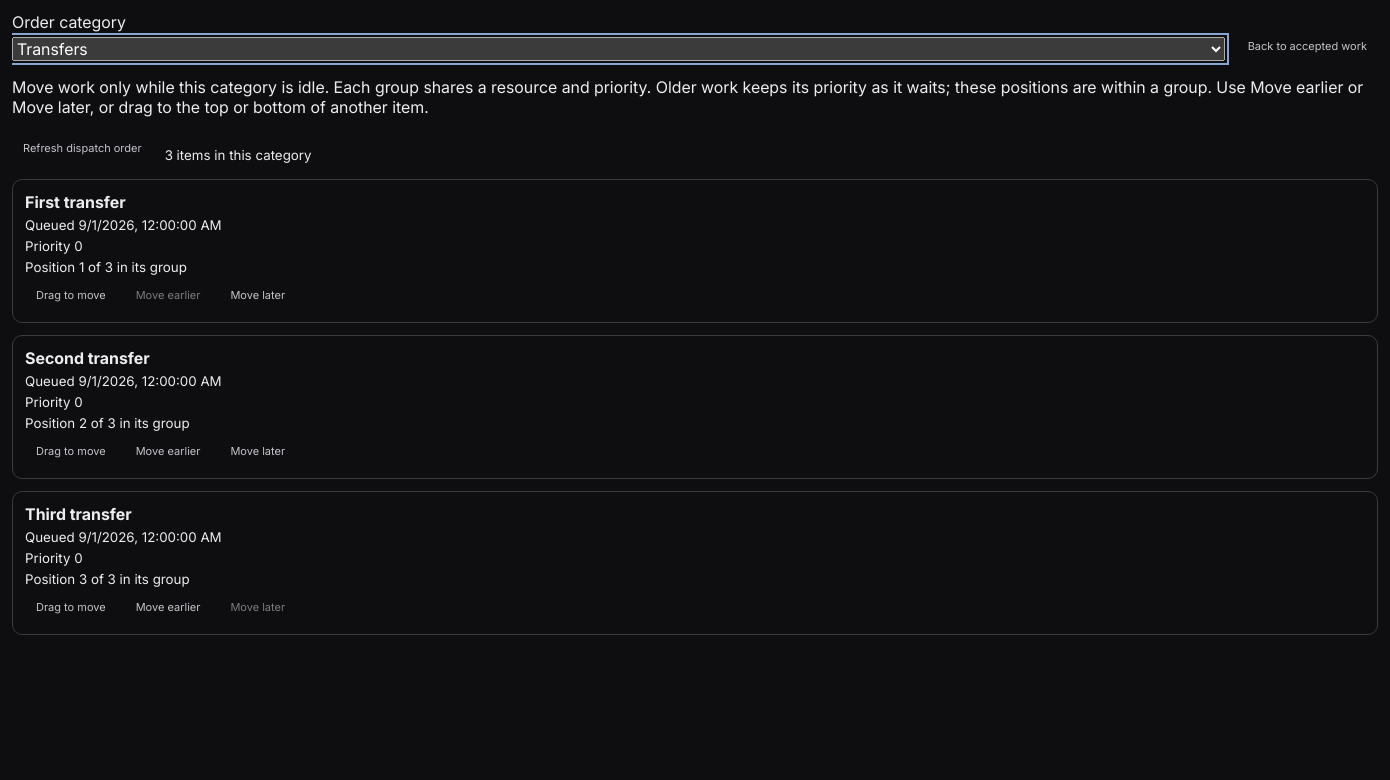
Test: keeps focus after retrying unchanged queue data (focus moved: false)
Click the button "Move earlier" below "Third transfer" at (168, 607), box [125, 592, 211, 622]
Wait 50 ms
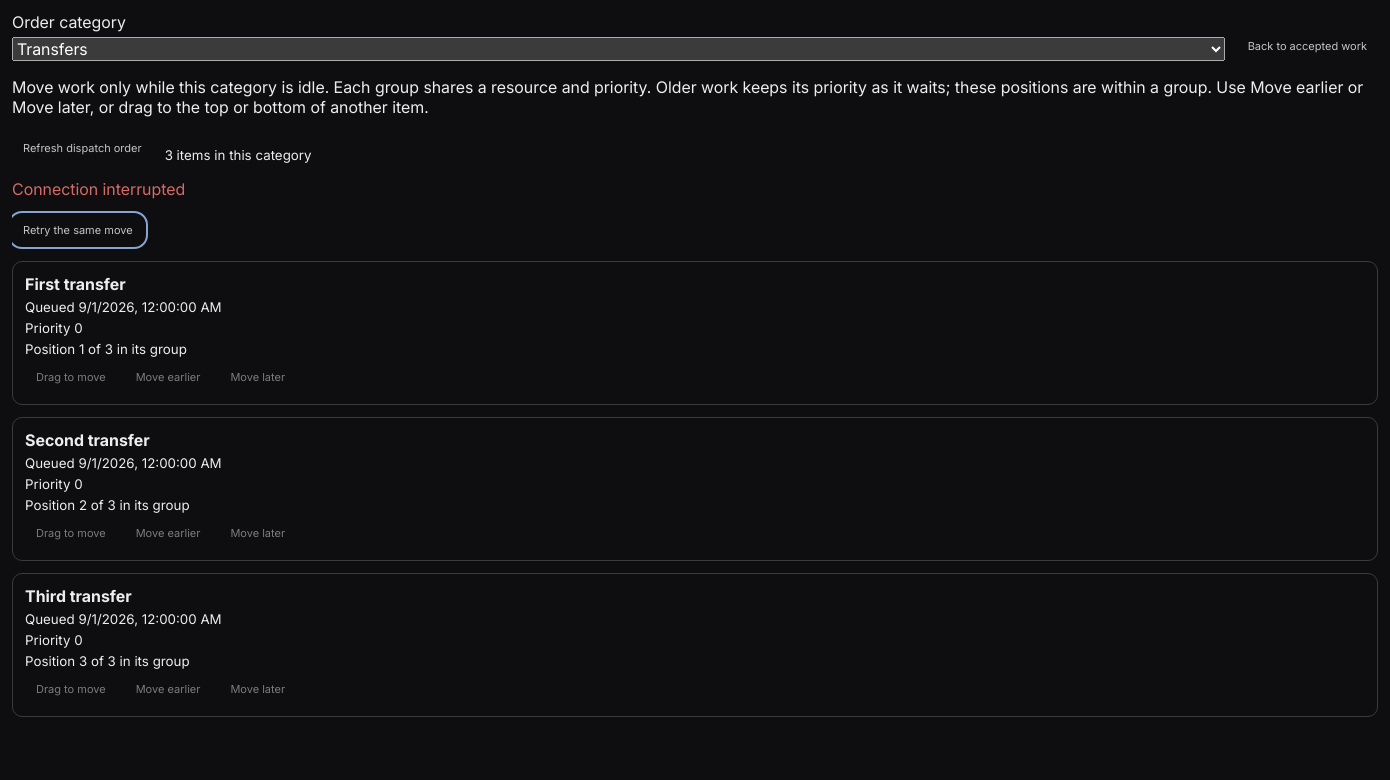
Click the button "Retry the same move" at (78, 230), box [12, 215, 144, 245]
Wait 50 ms
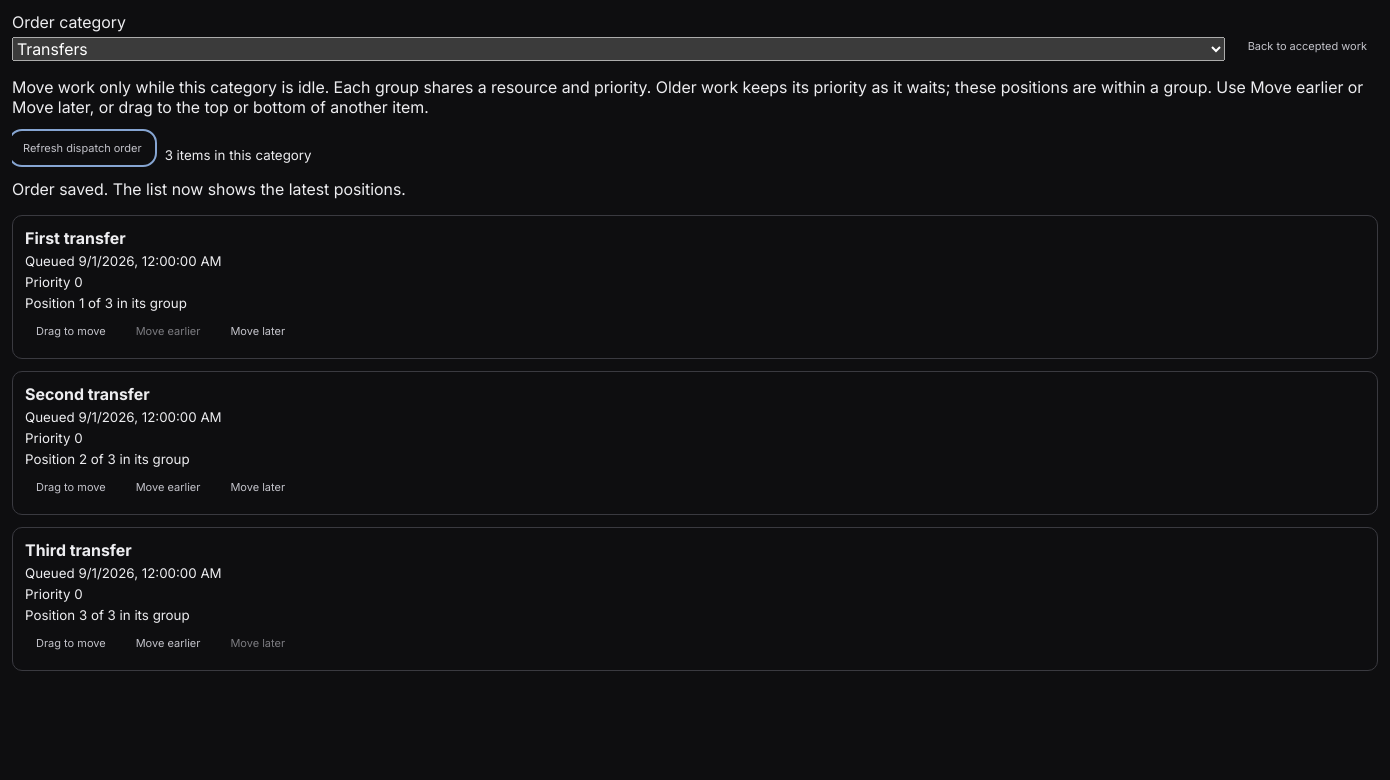
Now the button "Retry the same move" is gone
Now the text "Order saved. The list now shows the latest positions." is shown, box [12, 179, 406, 199]
